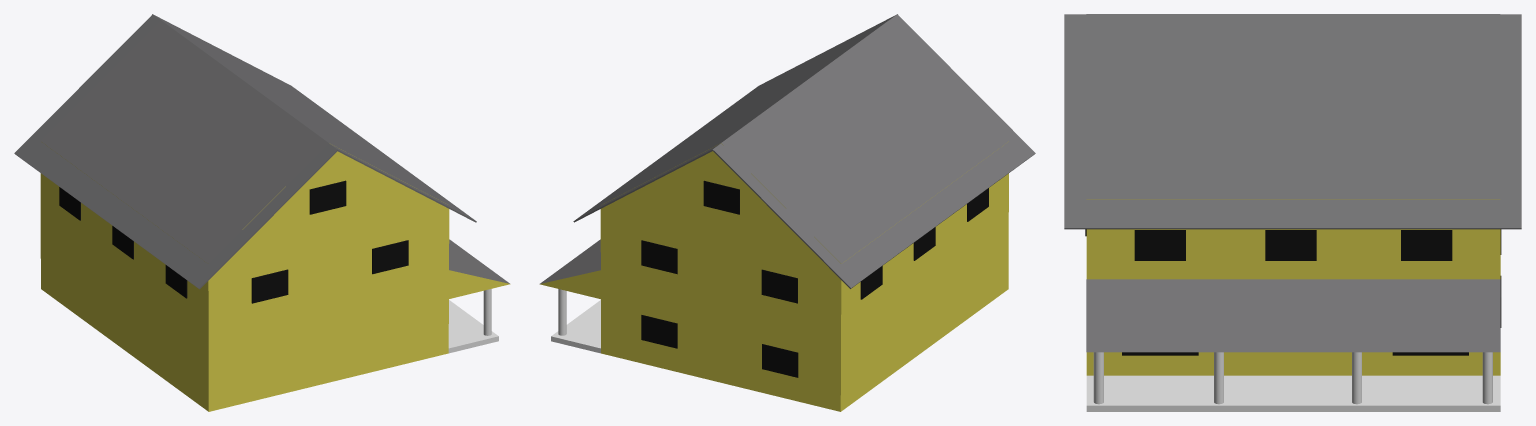
File: yellow-house.fbx
3 views of the same model, side by side, from view 1: azimuth 30°, elevation 25°; view 2: azimuth 150°, elevation 25°; view 3: azimuth 270°, elevation 25° (orthographic). The views are drawn at different scales.
Parts seen in each view (by area): view 1: House, Cube.001, Cube, Window.015, Window.014, Window.013; view 2: House, Cube.001, Cube, Window.007, Window.009, Window.006, Window.008, Window.005; view 3: House, Cube.001, Cube, Window.002, Window.003, Window.004, Cylinder.001, Cylinder.003, Cylinder, Cylinder.002.
Part boxes in pixels (<box>): House: <box>14,14,476,411</box>; Cube.001: <box>449,239,510,298</box>; Cube: <box>448,300,498,353</box>; Window.015: <box>251,269,288,303</box>; Window.014: <box>309,180,346,214</box>; Window.013: <box>372,240,408,274</box>; House: <box>573,14,1035,411</box>; Cube.001: <box>539,239,600,299</box>; Cube: <box>551,300,600,353</box>; Window.007: <box>703,180,739,214</box>; Window.009: <box>641,240,677,274</box>; Window.006: <box>761,269,797,303</box>; Window.008: <box>762,344,798,377</box>; Window.005: <box>641,315,677,348</box>; House: <box>1064,14,1521,375</box>; Cube.001: <box>1086,279,1500,352</box>; Cube: <box>1086,375,1500,411</box>; Window.002: <box>1265,230,1316,260</box>; Window.003: <box>1401,230,1452,260</box>; Window.004: <box>1134,230,1185,260</box>; Cylinder.001: <box>1482,352,1492,404</box>; Cylinder.003: <box>1093,352,1103,404</box>; Cylinder: <box>1214,352,1223,404</box>; Cylinder.002: <box>1352,352,1361,404</box>.
Size of the model in its own units: 253 by 181 by 254.
